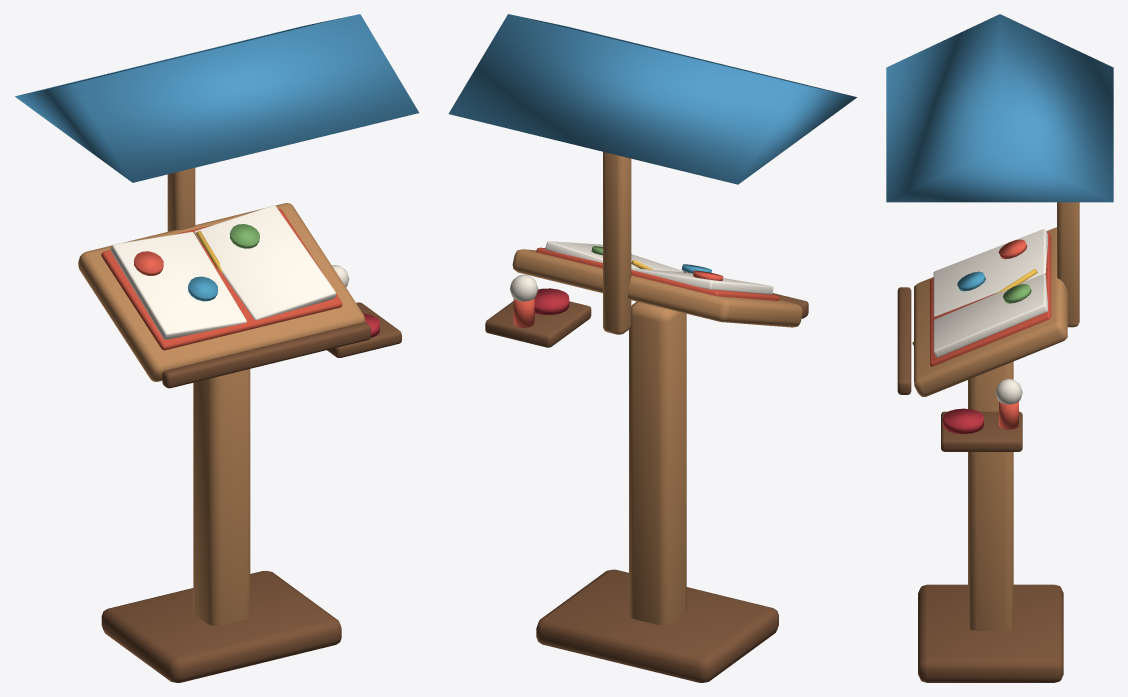
Rendered from guestbook-stand.glb.
The picture shows the model from 3 angles, left to right: view 1: azimuth 30°, elevation 25°; view 2: azimuth 150°, elevation 25°; view 3: azimuth 270°, elevation 25°; orthographic projection. The views are drawn at different scales.
Visible parts, largest first — view 1: stand, roof, book, stamp; view 2: roof, stand, stamp, book; view 3: roof, stand, book, stamp.
Part boxes in pixels (bbox=[...]): stand: bbox=[78, 203, 370, 682]; roof: bbox=[15, 14, 419, 231]; book: bbox=[101, 205, 342, 350]; stamp: bbox=[327, 265, 401, 357]; roof: bbox=[448, 14, 856, 334]; stand: bbox=[512, 249, 808, 682]; stamp: bbox=[485, 274, 591, 347]; book: bbox=[536, 241, 779, 300]; roof: bbox=[886, 14, 1113, 327]; stand: bbox=[897, 227, 1067, 682]; book: bbox=[912, 229, 1051, 366]; stamp: bbox=[941, 379, 1022, 451].
Size of the model in its own units: 0.73 by 1.37 by 0.5.
